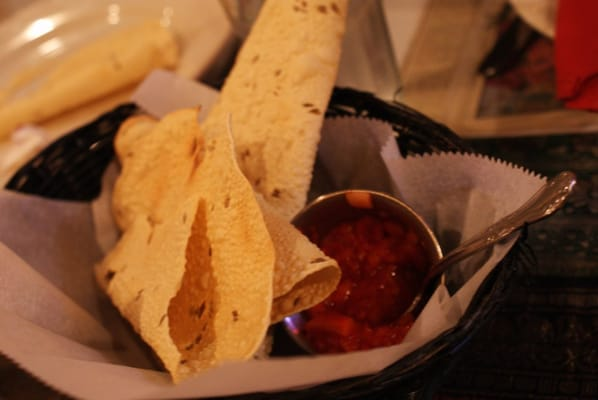sushi: (31, 121, 570, 395)
